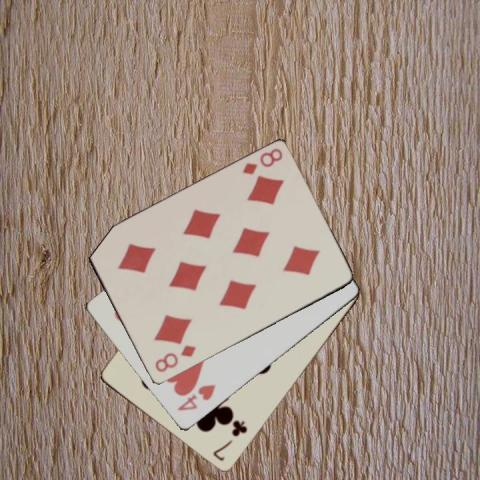4h: (174, 381, 217, 413)
7c: (210, 418, 249, 463)
8d: (152, 342, 198, 374), (239, 145, 284, 177)
